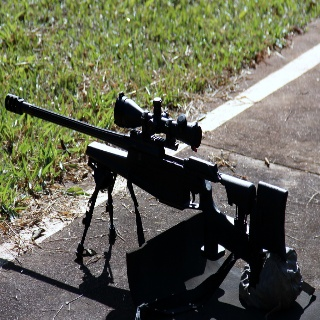rifle: (5, 90, 288, 285)
